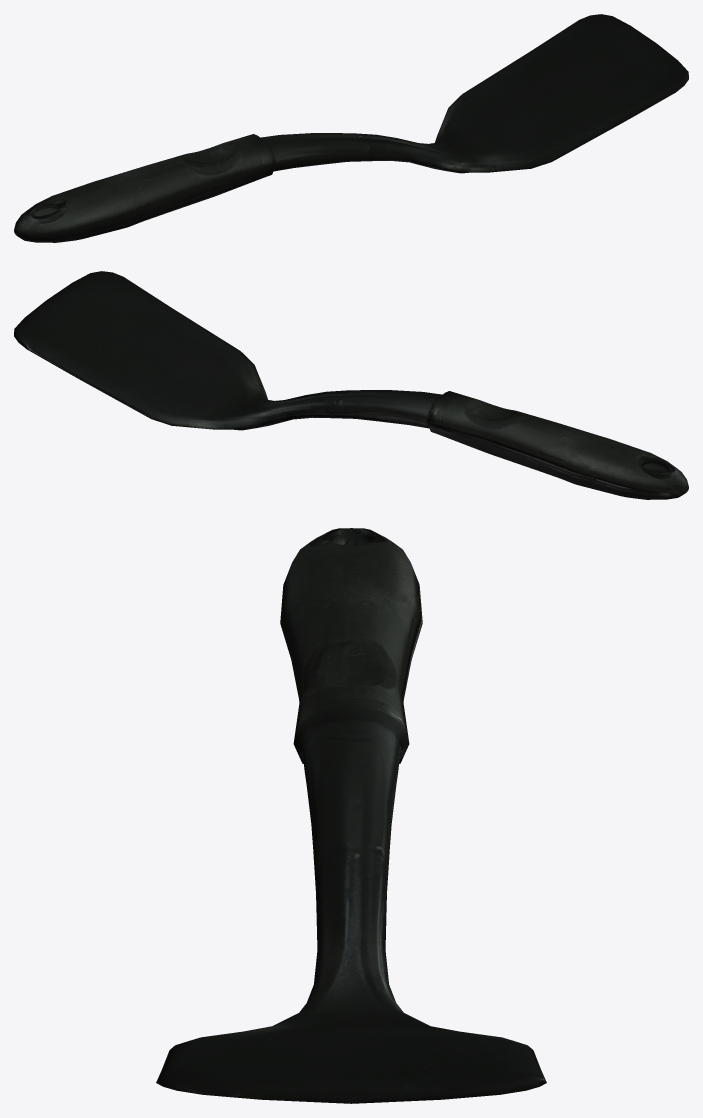
File: 033_spatula.dae
The picture shows the model from 3 angles, top to bottom: view 1: azimuth 30°, elevation 25°; view 2: azimuth 150°, elevation 25°; view 3: azimuth 270°, elevation 25°; orthographic projection. The views are drawn at different scales.
Parts seen in each view (by area): view 1: 033_spatula; view 2: 033_spatula; view 3: 033_spatula.
Boxes of the visible parts, <box> form: 033_spatula: <box>14,14,688,242</box>; 033_spatula: <box>14,271,688,499</box>; 033_spatula: <box>156,528,546,1103</box>.
Size of the model in its own units: 0.3118 by 0.0821 by 0.0335.
Materials: 1 (1 with a texture image).
